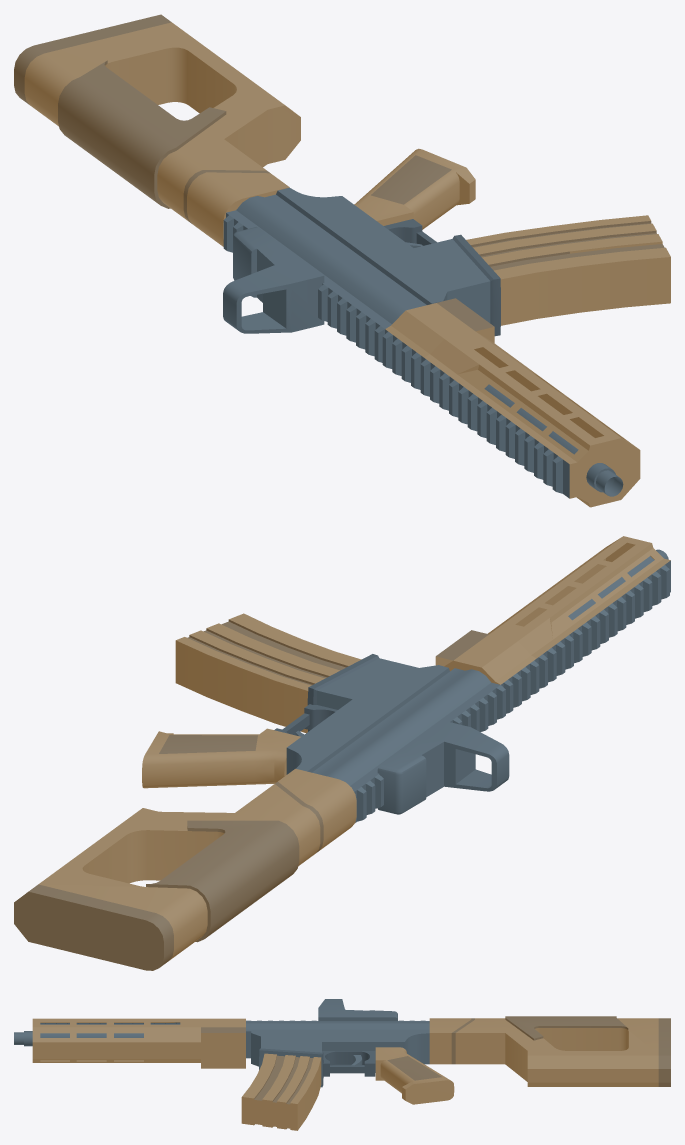
File: Gun.fbx
The picture shows the model from 3 angles, top to bottom: view 1: azimuth 30°, elevation 25°; view 2: azimuth 150°, elevation 25°; view 3: azimuth 270°, elevation 25°; orthographic projection. The views are drawn at different scales.
Visible parts, largest first — view 1: MG4; view 2: MG4; view 3: MG4.
Part boxes in pixels (<box>): MG4: <box>14,14,670,507</box>; MG4: <box>14,536,670,970</box>; MG4: <box>14,999,670,1130</box>.
Size of the model in its own units: 1.63 by 0.2495 by 4.16.
